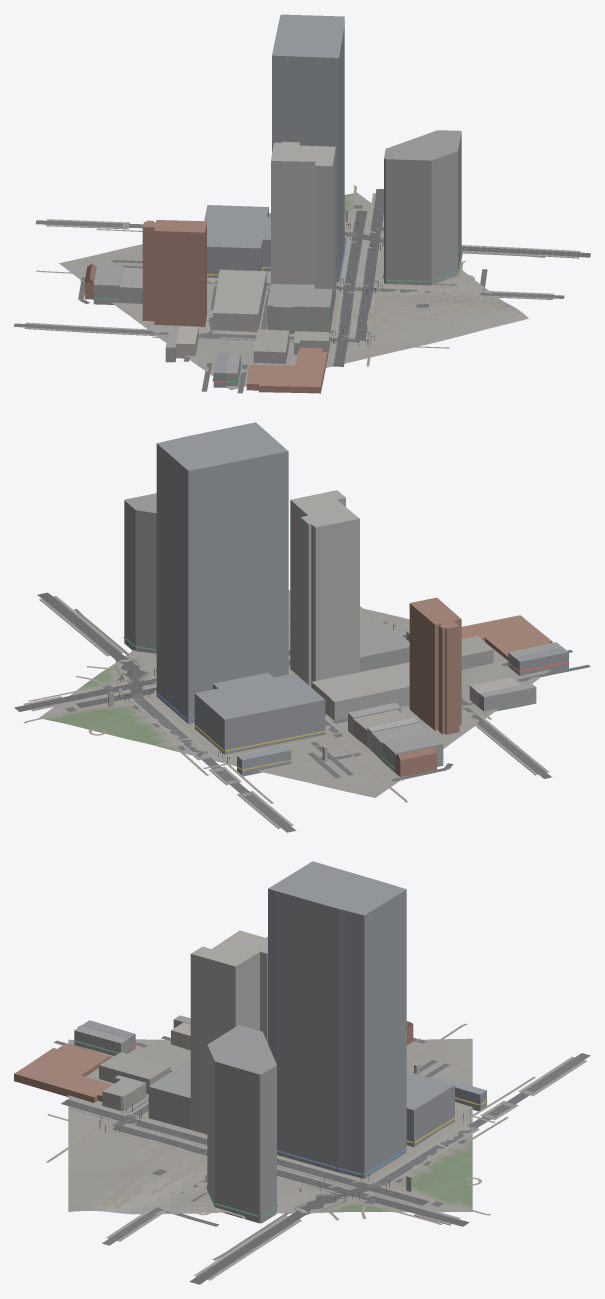
The model's file is tile_-6_2.glb.
3 renders of one model, top to bottom at view 1: azimuth 30°, elevation 25°; view 2: azimuth 150°, elevation 25°; view 3: azimuth 270°, elevation 25°, orthographic. The views are drawn at different scales.
Parts seen in each view (by area): view 1: buildings, terrain, roads, sidewalks, paths; view 2: buildings, terrain, roads, paths, sidewalks, awnings; view 3: buildings, terrain, roads, paths, sidewalks, awnings.
Boxes of the visible parts, x1,y1,x2,y2 form: buildings: (84, 14, 461, 393); terrain: (59, 192, 528, 389); roads: (14, 189, 590, 393); sidewalks: (24, 193, 580, 362); paths: (36, 185, 545, 366); buildings: (108, 422, 568, 776); terrain: (39, 590, 569, 797); roads: (14, 592, 590, 832); paths: (24, 606, 491, 803); sidewalks: (23, 596, 549, 828); awnings: (123, 636, 568, 770); buildings: (14, 861, 486, 1223); terrain: (68, 1038, 472, 1214); roads: (53, 1025, 590, 1284); paths: (46, 1023, 535, 1260); sidewalks: (69, 1056, 586, 1280); awnings: (74, 1040, 487, 1216).
Size of the model in its own units: 444 by 187 by 365.
